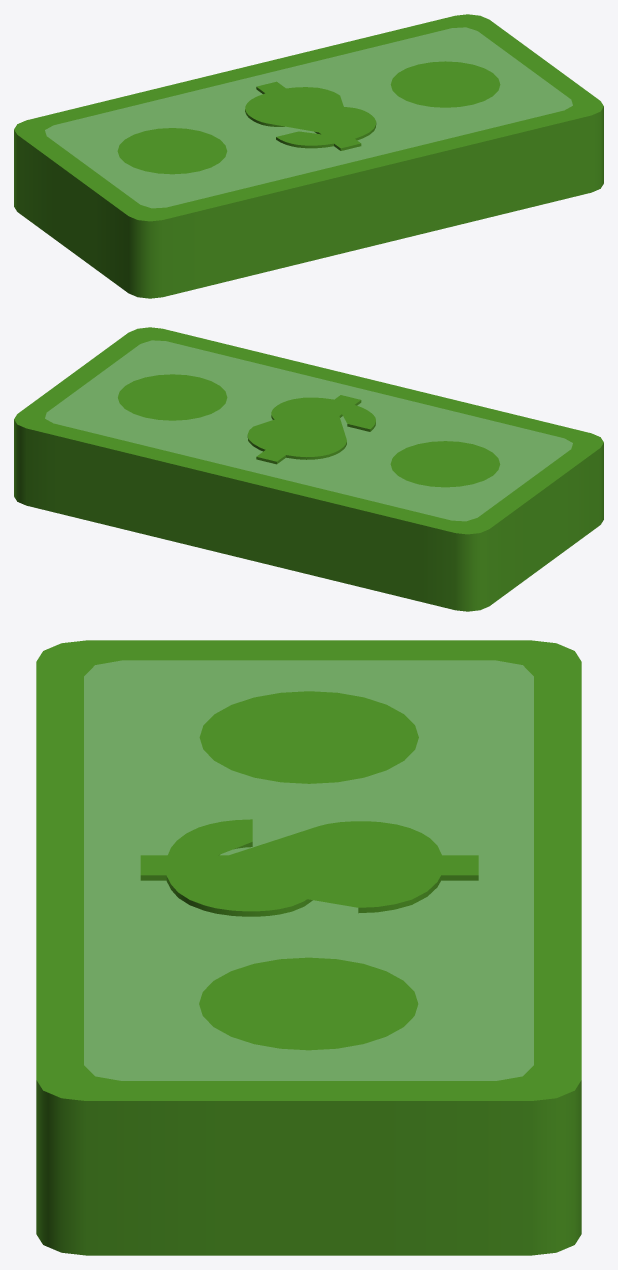
Rendered from Money1.fbx.
3 renders of one model, top to bottom at view 1: azimuth 30°, elevation 25°; view 2: azimuth 150°, elevation 25°; view 3: azimuth 270°, elevation 25°, orthographic. The views are drawn at different scales.
Visible parts, largest first — view 1: Money1; view 2: Money1; view 3: Money1.
Boxes of the visible parts, x1,y1,x2,y2 form: Money1: (14,14,603,298); Money1: (14,327,603,611); Money1: (36,640,581,1255).
Bounding box in the file's own units: 400 × 66.94 × 200.
